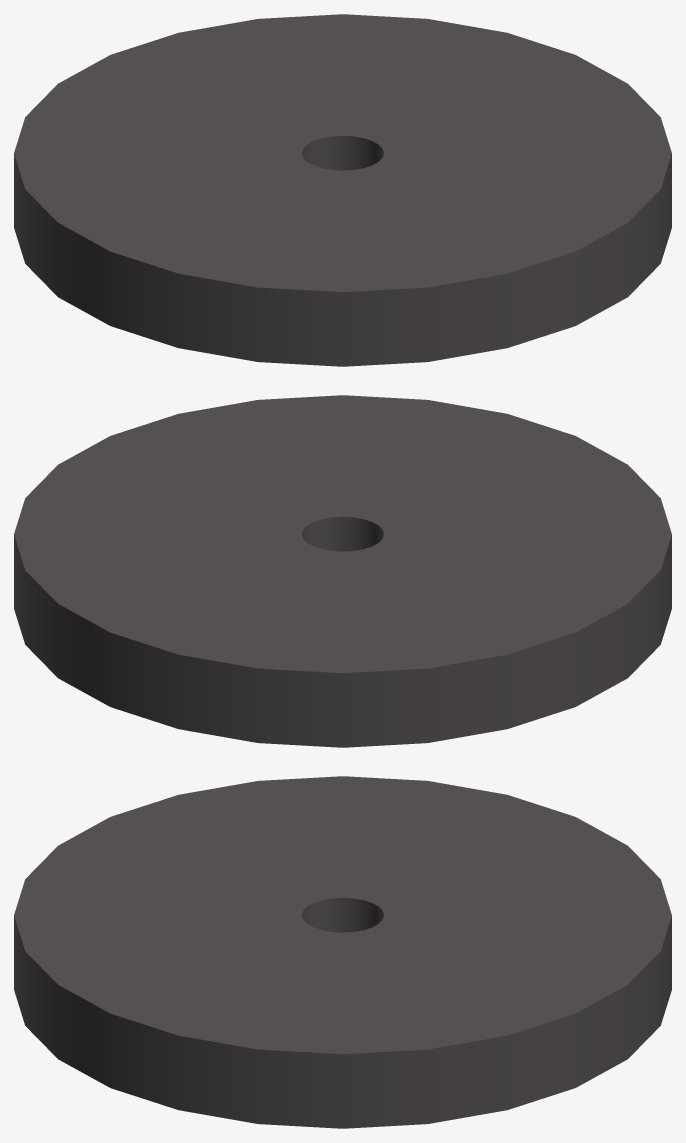
The model's file is disc3.dae.
The picture shows the model from 3 angles, top to bottom: view 1: azimuth 30°, elevation 25°; view 2: azimuth 150°, elevation 25°; view 3: azimuth 270°, elevation 25°; orthographic projection.
Parts seen in each view (by area): view 1: SketchUp (×2); view 2: SketchUp (×2); view 3: SketchUp (×2).
Part boxes in pixels (x1,y1,x2,y2): SketchUp (×2): (14, 14, 671, 366); SketchUp (×2): (14, 395, 671, 747); SketchUp (×2): (14, 776, 671, 1128).
Bounding box in the file's own units: 4 × 4 × 0.5.
Materials: 1 (1 with a texture image).
